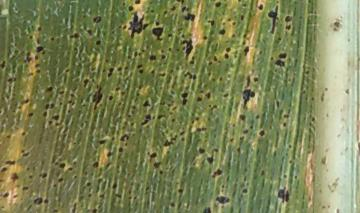tarspot: (127, 10, 150, 39), (267, 3, 278, 35), (240, 87, 256, 109), (92, 83, 103, 113), (276, 185, 292, 205), (181, 38, 194, 58), (152, 26, 165, 42), (214, 193, 231, 205), (206, 147, 217, 164), (182, 70, 198, 81), (183, 12, 197, 23), (81, 76, 91, 91), (8, 171, 20, 183), (141, 113, 150, 128), (211, 167, 222, 179), (162, 138, 173, 150), (274, 58, 287, 68), (180, 92, 189, 106), (283, 13, 294, 24), (19, 147, 30, 158), (34, 45, 46, 55), (239, 186, 252, 195), (93, 14, 103, 25), (141, 98, 151, 109), (106, 66, 115, 78), (31, 196, 43, 205), (245, 74, 252, 89), (201, 205, 214, 213), (195, 126, 208, 134), (113, 191, 123, 201), (38, 171, 49, 180), (237, 112, 248, 121), (243, 45, 251, 57), (119, 134, 131, 142), (68, 31, 80, 39), (207, 104, 219, 112), (274, 98, 281, 111), (256, 2, 265, 12), (1, 190, 11, 199), (151, 160, 162, 168), (20, 184, 31, 192), (4, 159, 15, 167), (23, 56, 34, 64), (84, 27, 92, 38), (66, 98, 77, 106), (1, 58, 8, 70), (188, 55, 195, 67), (284, 23, 293, 32), (218, 28, 226, 38), (205, 19, 215, 27), (211, 54, 219, 64), (158, 71, 168, 79), (156, 112, 166, 120), (35, 36, 43, 46), (204, 90, 211, 101), (278, 51, 287, 59), (148, 151, 157, 159), (110, 181, 118, 190), (57, 161, 66, 169), (70, 201, 76, 213), (195, 96, 204, 104), (169, 4, 177, 13), (6, 76, 16, 83), (21, 97, 31, 104), (271, 148, 278, 158), (117, 24, 128, 30), (127, 5, 135, 13), (91, 160, 99, 168), (20, 130, 28, 138), (45, 85, 53, 93), (84, 180, 92, 188), (161, 8, 169, 16), (181, 5, 189, 13), (286, 143, 294, 151), (259, 129, 266, 138), (198, 146, 205, 155), (94, 39, 103, 46), (176, 187, 185, 194), (36, 24, 43, 33), (52, 113, 59, 122), (48, 102, 55, 111), (234, 145, 241, 154), (222, 92, 231, 99), (241, 129, 250, 136), (303, 68, 310, 77), (89, 207, 99, 213), (206, 68, 212, 78), (225, 46, 233, 53), (148, 54, 156, 61), (136, 62, 144, 69), (98, 139, 106, 146), (178, 129, 186, 136), (107, 95, 115, 102), (160, 53, 168, 60), (57, 89, 65, 96), (117, 65, 123, 74), (242, 175, 248, 184), (44, 102, 49, 112), (132, 49, 137, 59), (223, 53, 230, 60), (202, 34, 209, 41), (117, 146, 124, 153), (169, 201, 176, 208), (57, 176, 64, 183), (12, 193, 19, 200), (283, 113, 290, 120), (166, 31, 173, 38), (98, 192, 105, 199), (254, 113, 261, 120), (35, 68, 42, 75), (239, 14, 246, 21), (231, 20, 238, 27), (126, 54, 133, 61), (276, 35, 283, 42), (253, 76, 259, 84), (105, 151, 113, 157), (42, 198, 50, 204), (1, 165, 7, 173), (41, 111, 49, 117), (259, 169, 265, 177), (158, 100, 166, 106), (238, 135, 246, 141), (281, 172, 287, 180), (125, 113, 133, 119), (194, 115, 202, 121), (269, 56, 275, 64), (257, 49, 263, 57), (215, 1, 221, 8), (123, 64, 130, 70), (137, 68, 144, 74), (49, 35, 55, 42), (170, 134, 176, 141), (282, 122, 288, 129), (58, 100, 64, 107), (170, 117, 176, 124), (113, 86, 120, 92), (5, 134, 12, 140), (27, 174, 34, 180), (249, 124, 255, 131), (67, 166, 74, 172), (230, 33, 236, 40), (220, 20, 226, 27), (27, 35, 34, 41), (137, 83, 143, 90), (310, 116, 316, 123), (301, 88, 307, 95), (229, 137, 236, 143), (218, 75, 223, 83), (310, 95, 315, 103), (150, 69, 156, 75), (52, 207, 58, 213), (293, 174, 299, 180), (134, 1, 141, 6), (158, 169, 163, 176), (47, 120, 54, 125), (167, 46, 172, 53), (64, 68, 71, 73), (34, 62, 41, 67), (211, 76, 216, 83), (288, 158, 293, 165), (231, 122, 236, 129), (155, 20, 160, 26), (180, 136, 185, 142), (87, 193, 93, 198), (175, 1, 185, 4), (226, 17, 231, 23), (66, 109, 72, 114), (69, 92, 75, 97), (72, 140, 77, 146), (135, 92, 141, 97), (28, 111, 32, 118), (87, 188, 94, 192), (129, 122, 136, 126), (304, 95, 308, 102), (52, 183, 57, 188), (190, 119, 195, 124)
